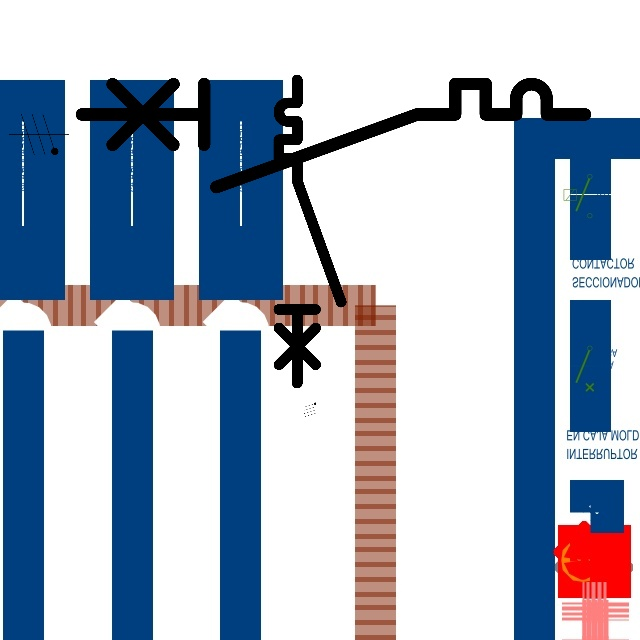interruptor_termomagnetico: (68, 71, 597, 200), (271, 72, 349, 390)
